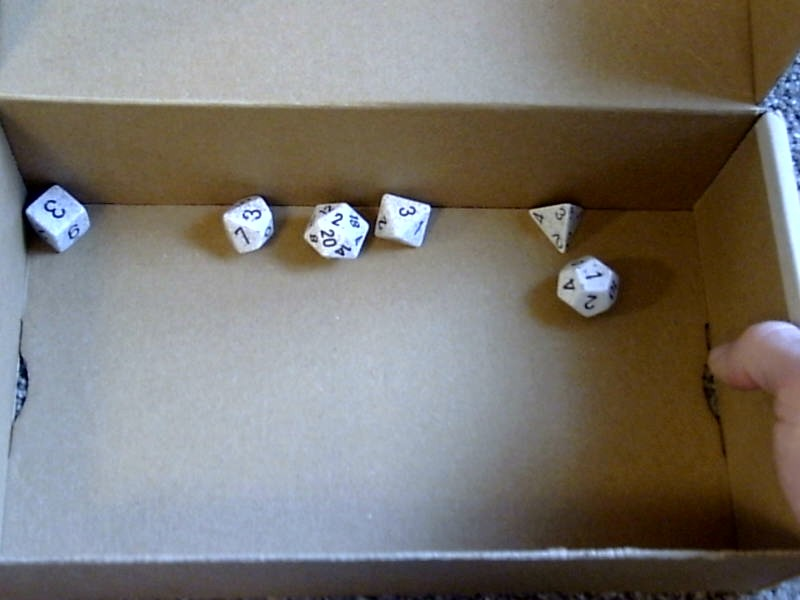d10 3: (217, 192, 278, 257)
d12 1: (551, 253, 622, 321)
d20 2: (301, 194, 372, 265)
d4 3: (525, 199, 586, 258)
d6 3: (15, 173, 93, 263)
d8 3: (373, 188, 431, 251)
